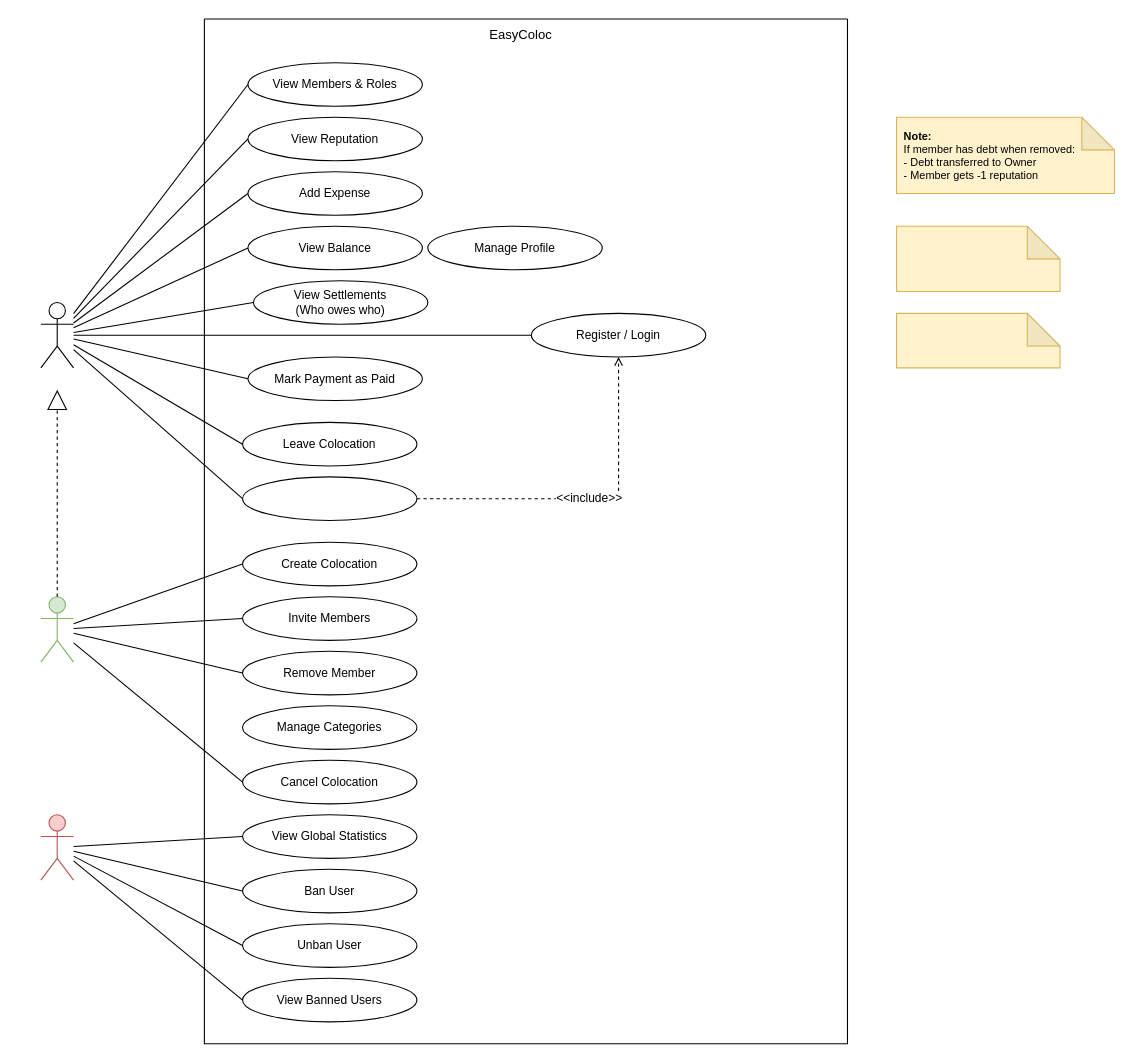
The diagram is 1134 pixels wide and 1063 high, and some of its shapes have lost their labels. The centre of each missing label's shape, as x and y in pixels:
Global Admin: the point at 57,847
Join Colocation (via invitation): the point at 329,498
Member: the point at 57,334
Note: First registered user automatically becomes Global Admin: the point at 977,258
Note: If leaving with debt: - Gets -1 reputation: the point at 977,340
Owner: the point at 57,629
